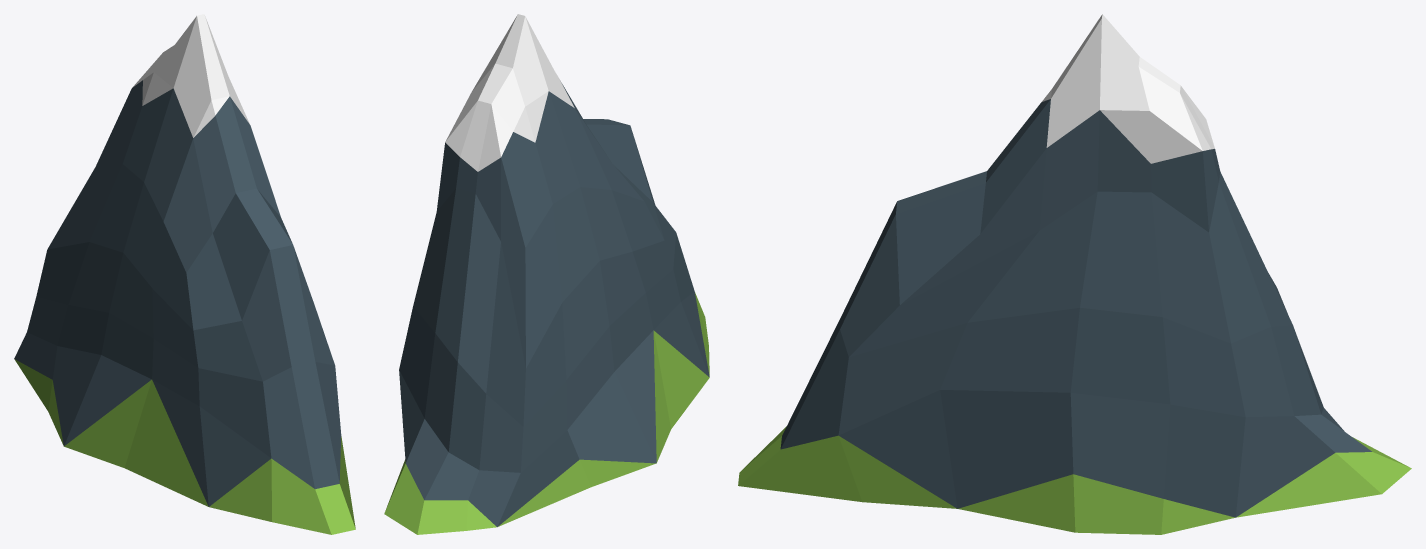
The model's file is mountain_14_lev1.glb.
The picture shows the model from 3 angles, left to right: view 1: azimuth 30°, elevation 25°; view 2: azimuth 150°, elevation 25°; view 3: azimuth 270°, elevation 25°; orthographic projection. The views are drawn at different scales.
Parts seen in each view (by area): view 1: mountain_14_lev1; view 2: mountain_14_lev1; view 3: mountain_14_lev1.
Part boxes in pixels (bbox=[...]): mountain_14_lev1: bbox=[14, 14, 355, 534]; mountain_14_lev1: bbox=[384, 14, 709, 534]; mountain_14_lev1: bbox=[738, 14, 1411, 534].
Bounding box in the file's own units: 12.01 × 20.97 × 27.25.
